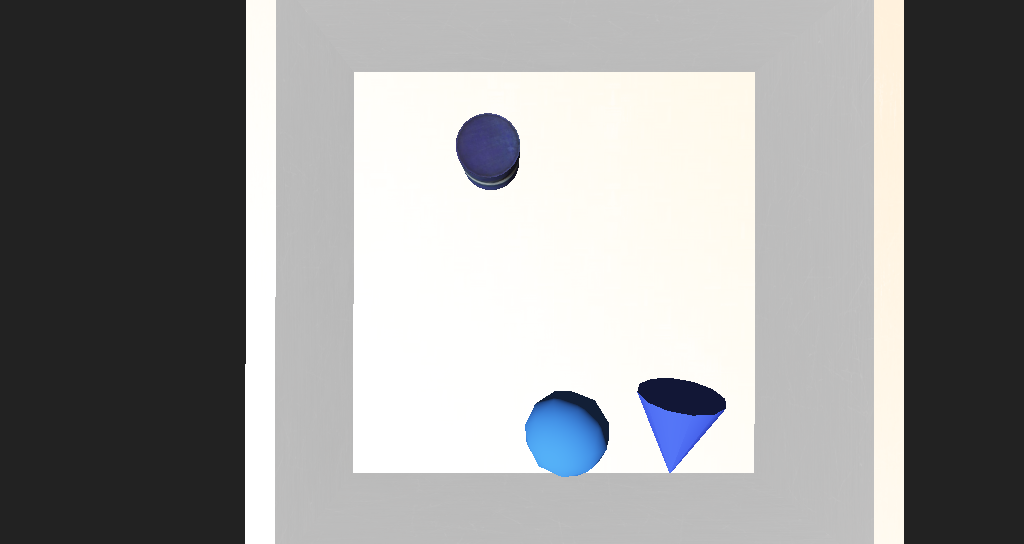cone: (435, 186, 482, 224)
cylinder: (563, 320, 637, 387)
sphere: (478, 332, 546, 375)
